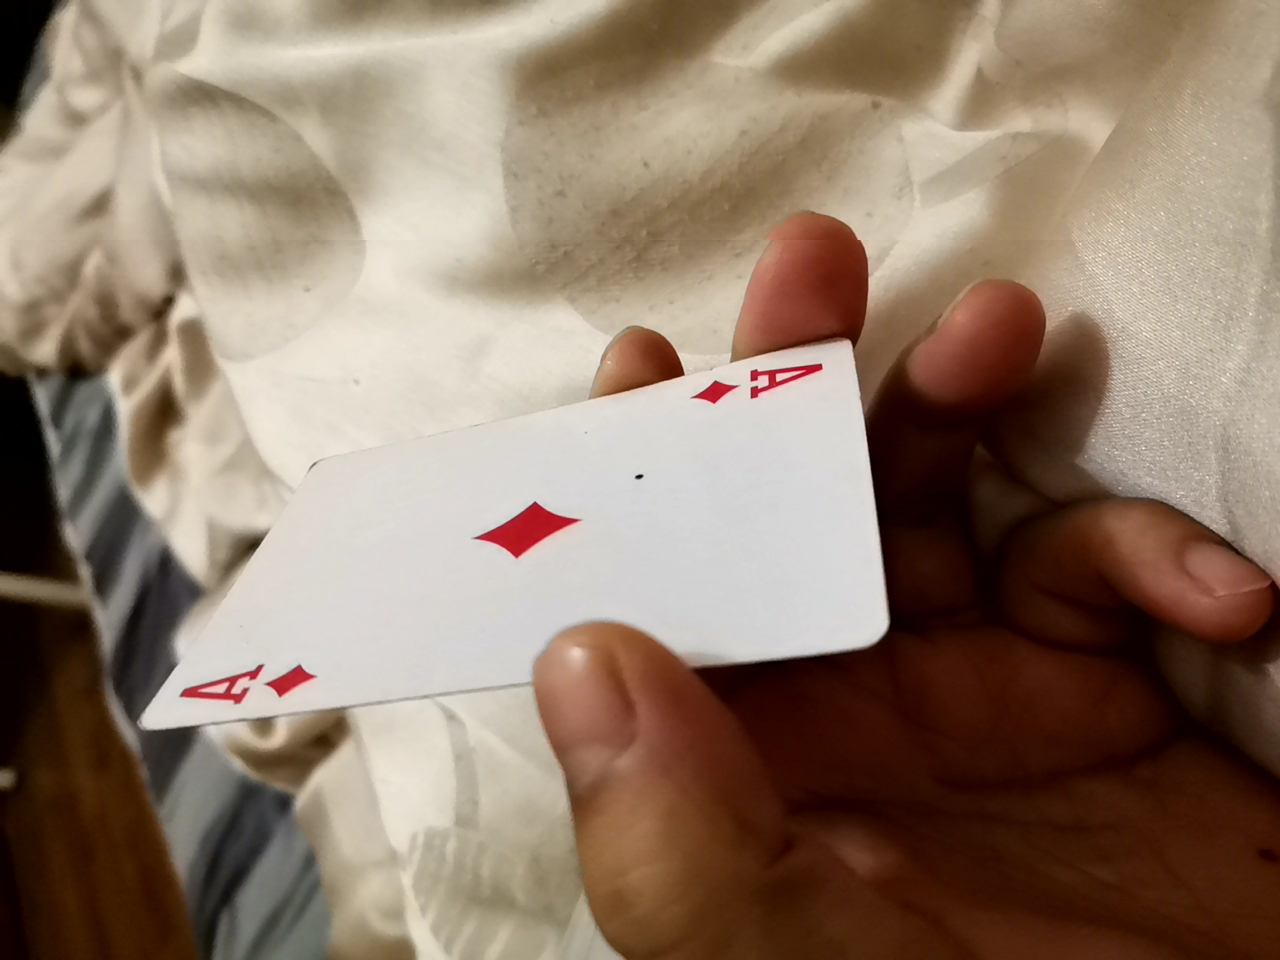fk a: (144, 350, 936, 716)
